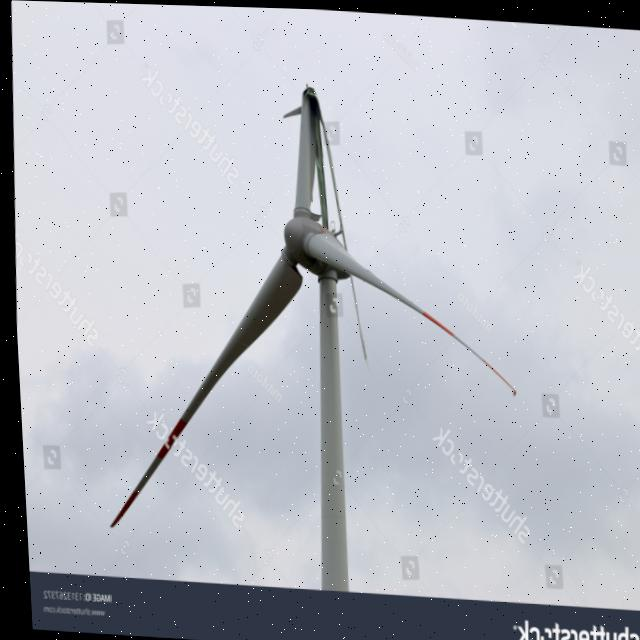damaged-blade: (283, 83, 344, 247)
solid-blade: (104, 247, 299, 527), (301, 230, 511, 392)
